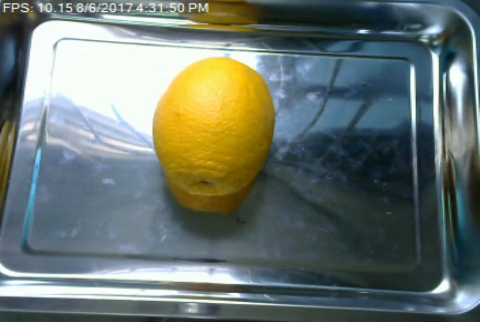Orange: (151, 55, 277, 195)
